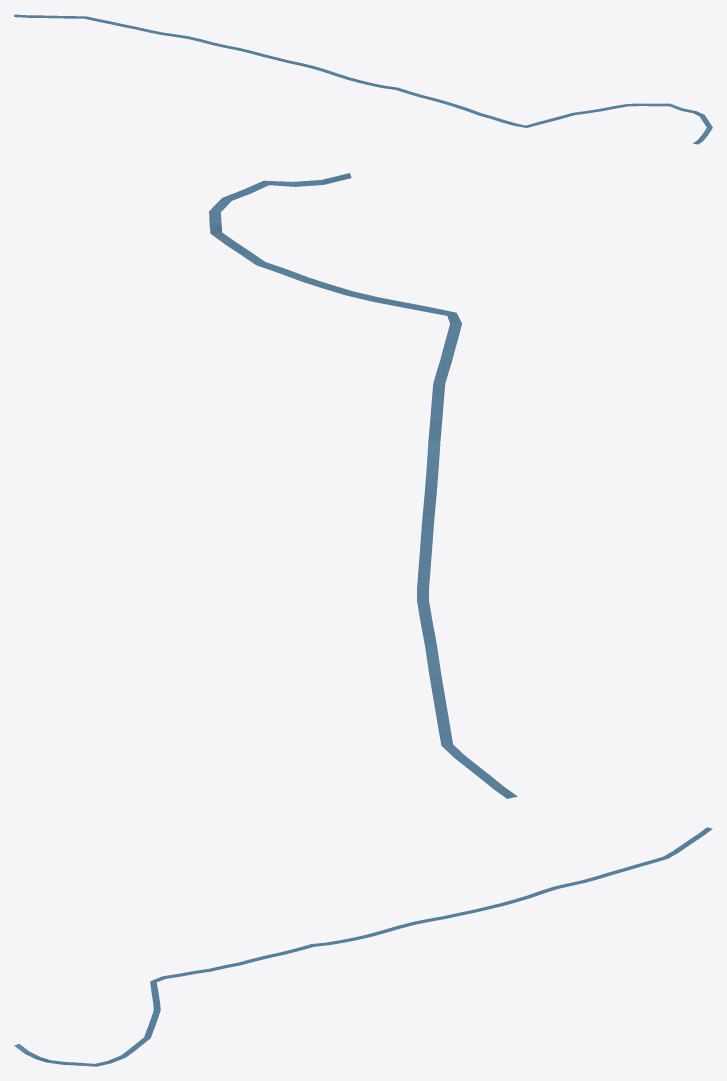
The model's file is c_1629_17823_water.glb.
3 views of the same model, one above another, from view 1: azimuth 30°, elevation 25°; view 2: azimuth 150°, elevation 25°; view 3: azimuth 270°, elevation 25° (orthographic). The views are drawn at different scales.
Visible parts, largest first — view 1: geometry_0; view 2: geometry_0; view 3: geometry_0.
Boxes of the visible parts, x1,y1,x2,y2 form: geometry_0: (14,14,712,144); geometry_0: (209,173,517,798); geometry_0: (14,827,712,1066).
Size of the model in its own units: 201 by 2.43 by 251.
